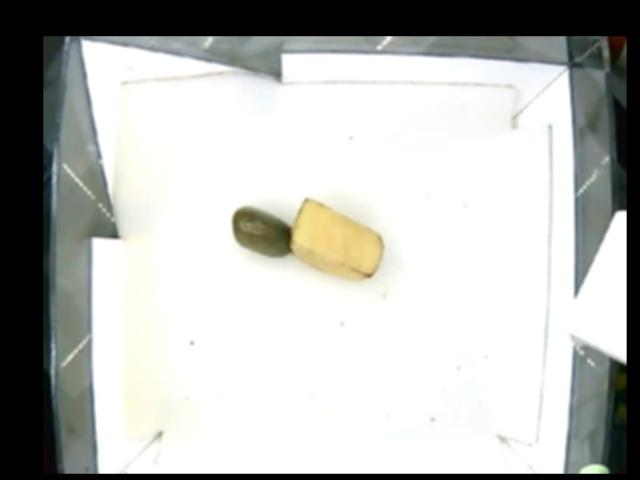Pebble: (231, 206, 293, 259)
Potato: (289, 198, 384, 278)
